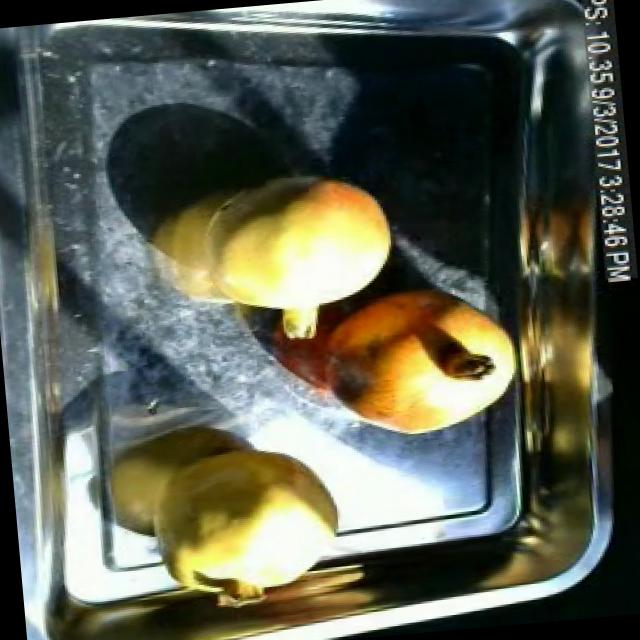fruit: (172, 154, 412, 360), (300, 269, 527, 451), (132, 428, 358, 606)
